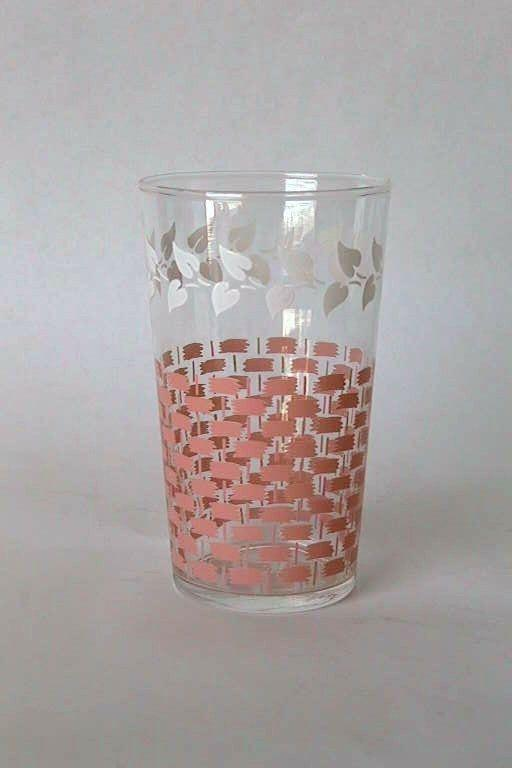glass-normal: (135, 162, 392, 618)
